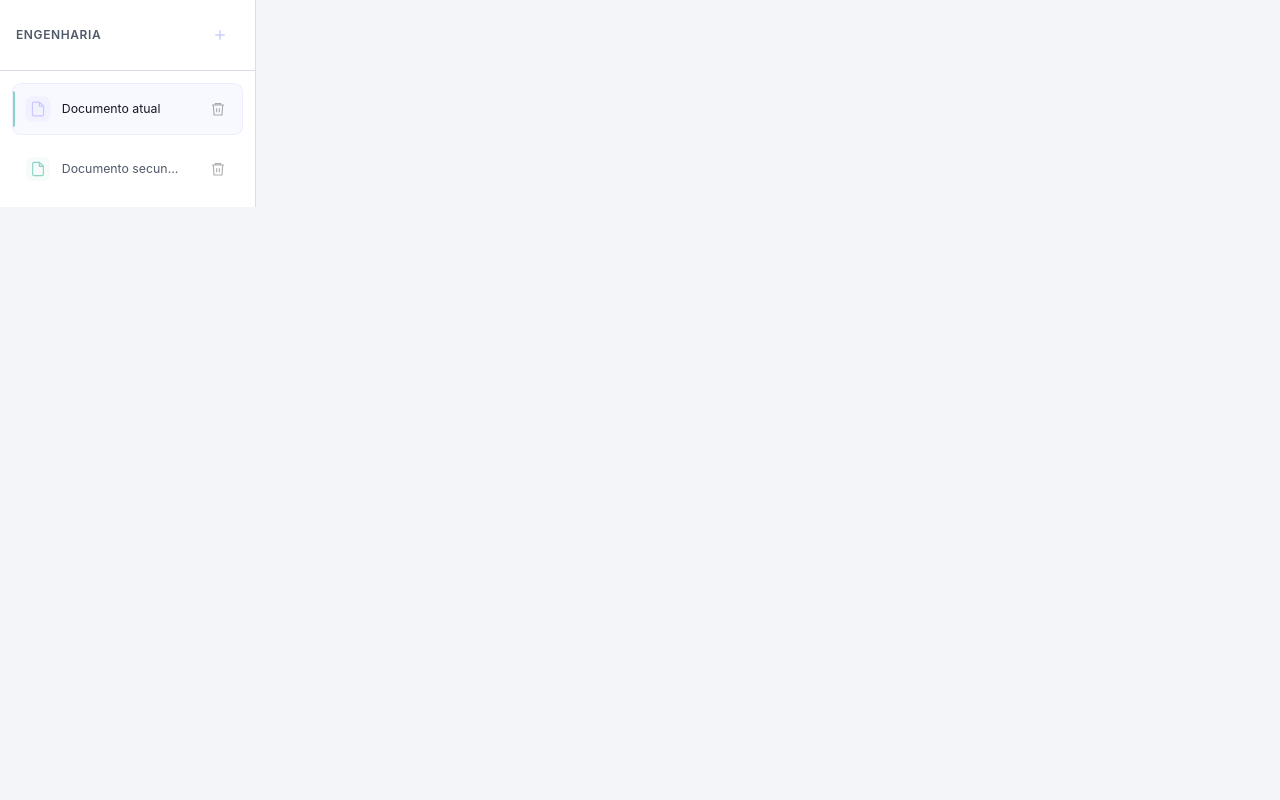
WorkspaceSidebar - exclusão de documentos › confirma exclusão sem navegar pelo link
What coordinates should you click on to do the following:
click the button named "Excluir documento Documento atual"
I would click on:
 (218, 109)
Its box is [200, 91, 236, 127].
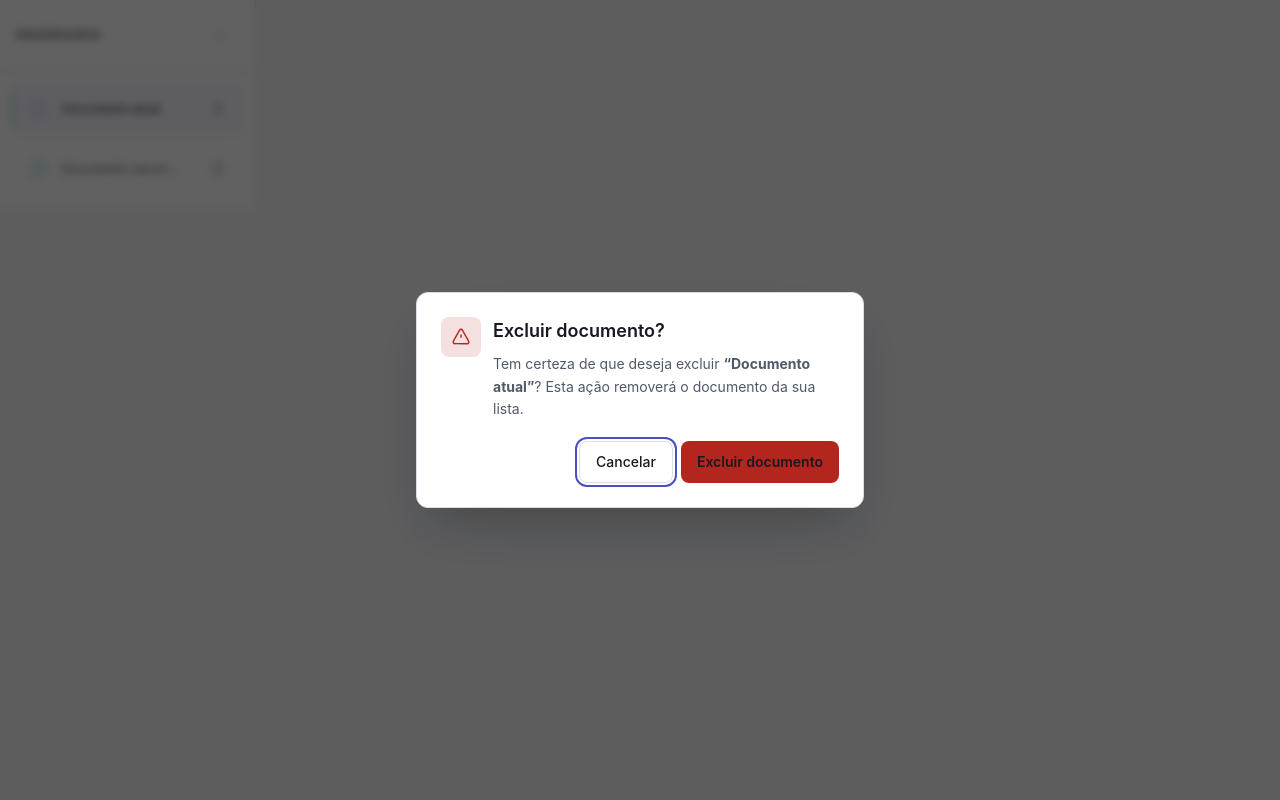
What coordinates should you click on to do the following:
click the button "Excluir documento"
I would click on:
 (760, 462)
Its box is [681, 441, 839, 483].
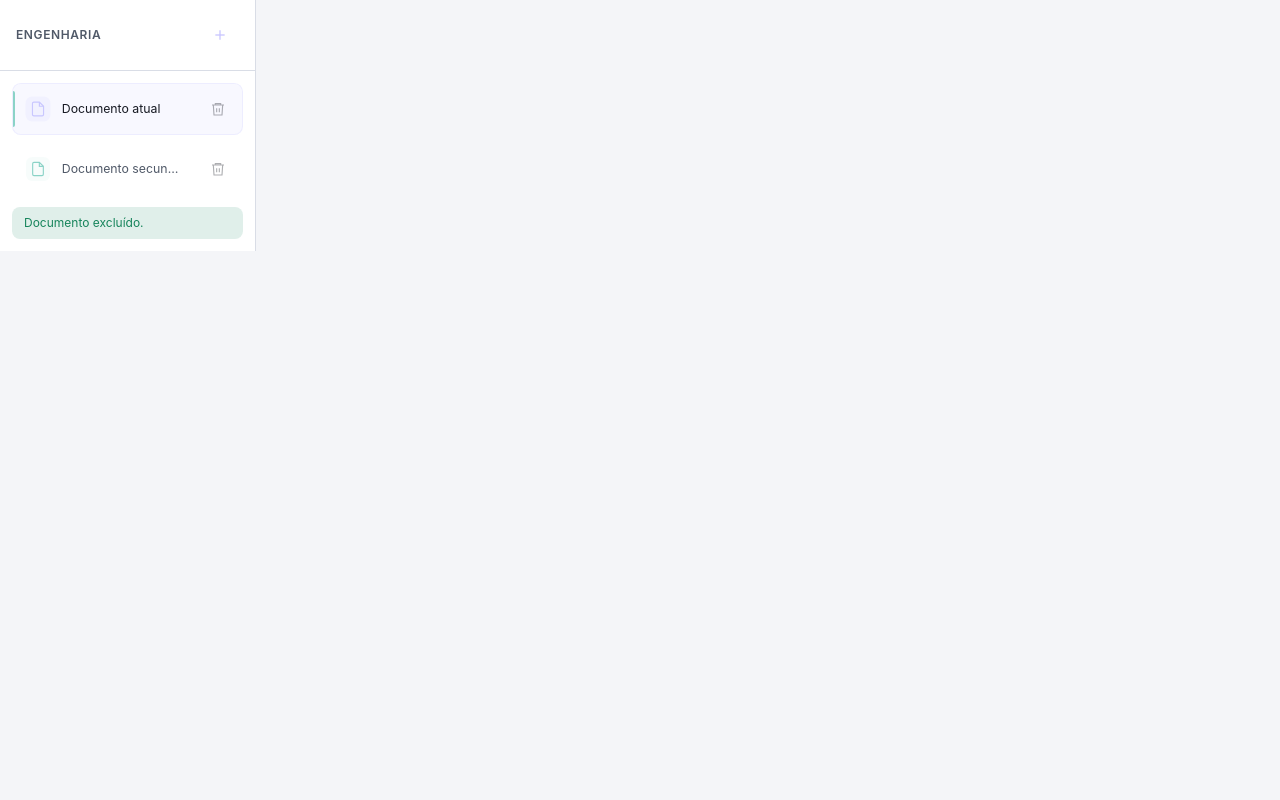
Expected: the message reads "Documento excluído.", [24, 215, 144, 230]
